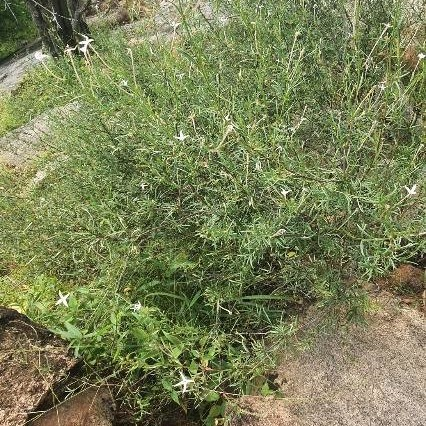obstacle: (88, 38, 395, 288)
